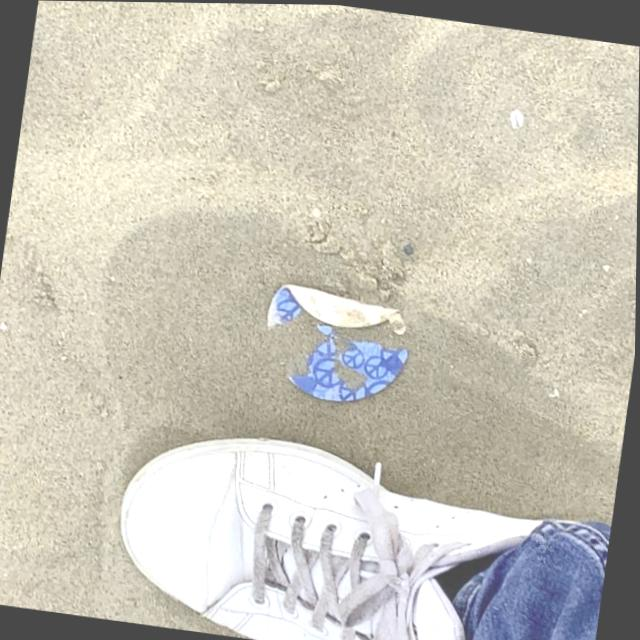Paper: (254, 280, 418, 411)
